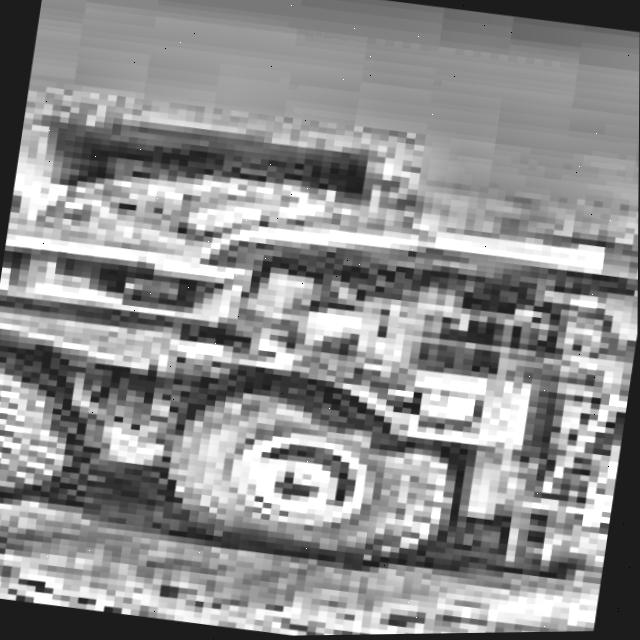dump_truck: (0, 150, 639, 599)
